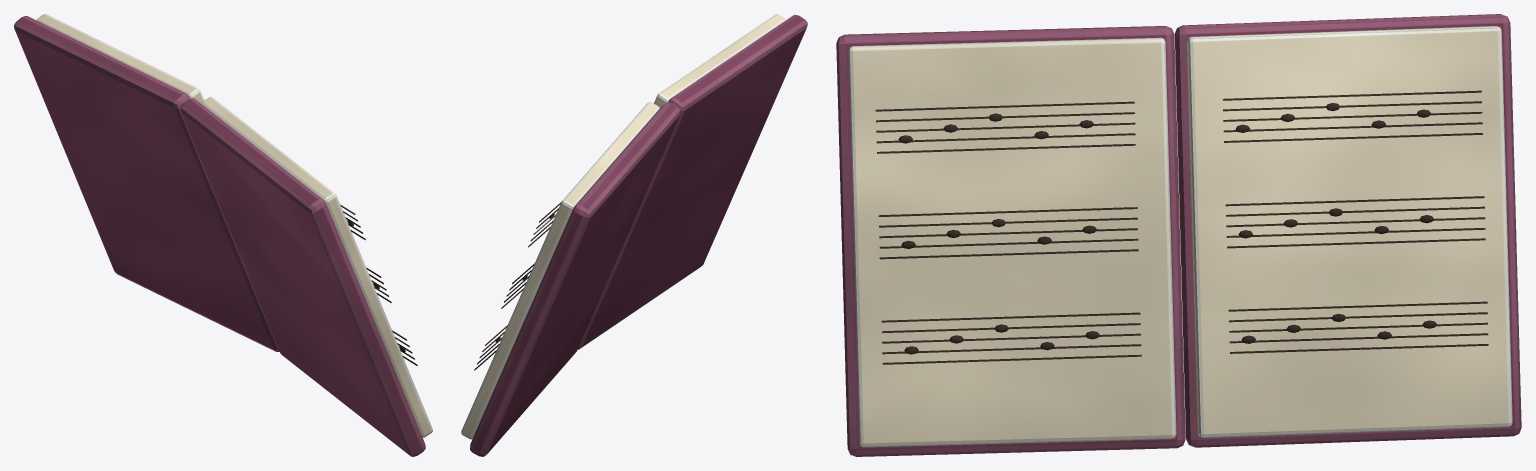
File: 06_Piano_Score.fbx
3 views of the same model, side by side, from view 1: azimuth 30°, elevation 25°; view 2: azimuth 150°, elevation 25°; view 3: azimuth 270°, elevation 25° (orthographic). The views are drawn at different scales.
Parts seen in each view (by area): view 1: 06_Piano_Score; view 2: 06_Piano_Score; view 3: 06_Piano_Score.
Boxes of the visible parts, x1,y1,x2,y2 form: 06_Piano_Score: (14,14,432,456); 06_Piano_Score: (461,14,807,456); 06_Piano_Score: (836,14,1521,456).
Bounding box in the file's own units: 23.89 × 40.25 × 68.1.
Materials: 1 (1 with a texture image).
